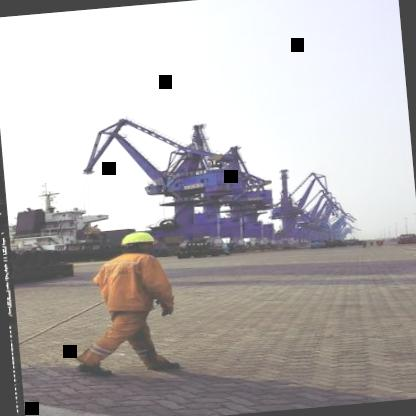helmet: (113, 228, 162, 258)
